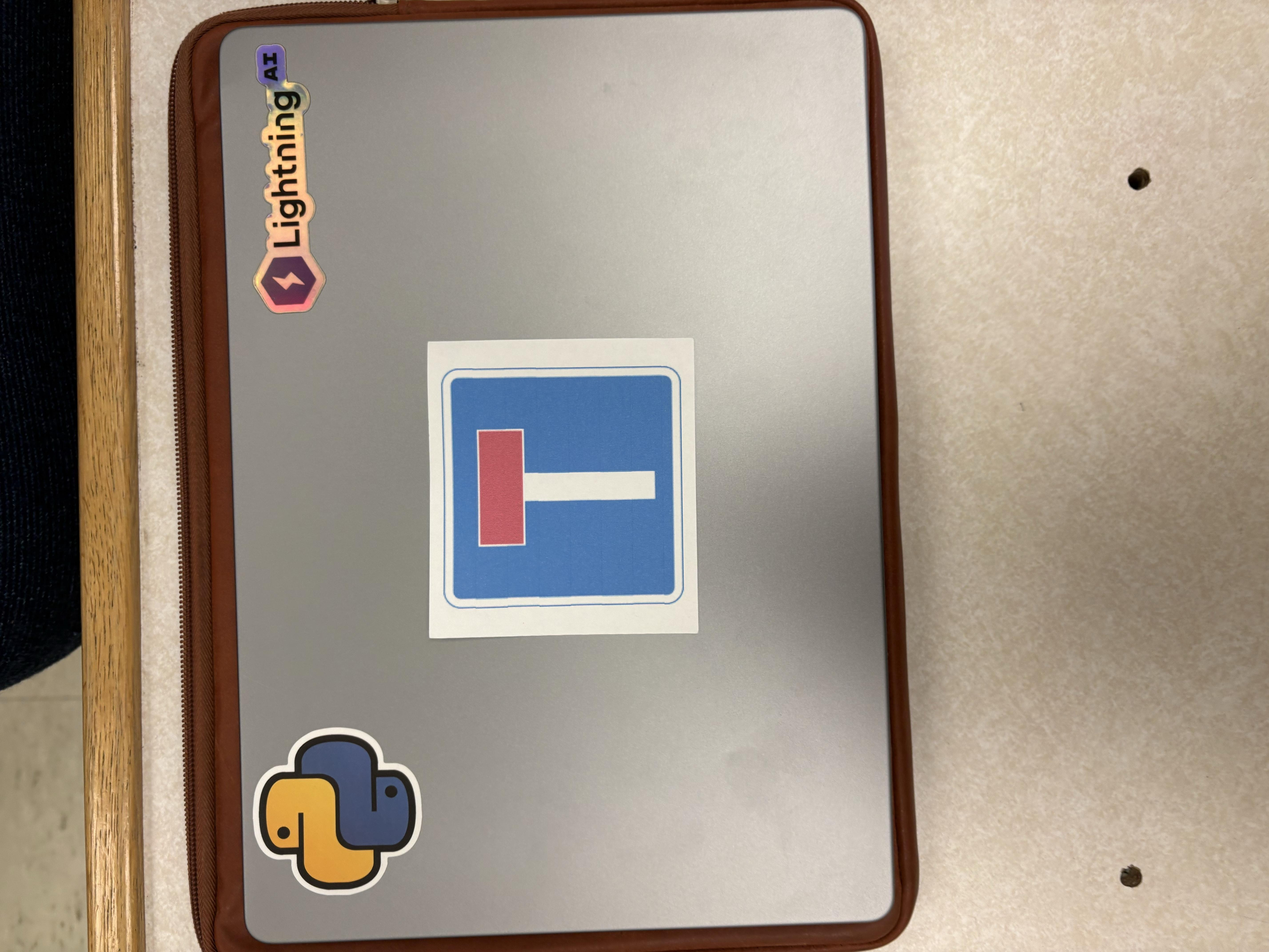Dead End: (423, 340, 697, 639)
